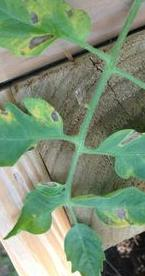Tomato Early blight leaf: (0, 0, 89, 58), (0, 177, 67, 249), (0, 97, 67, 163), (93, 128, 145, 184), (77, 187, 145, 226)
Tomato leaf: (60, 223, 107, 276)
